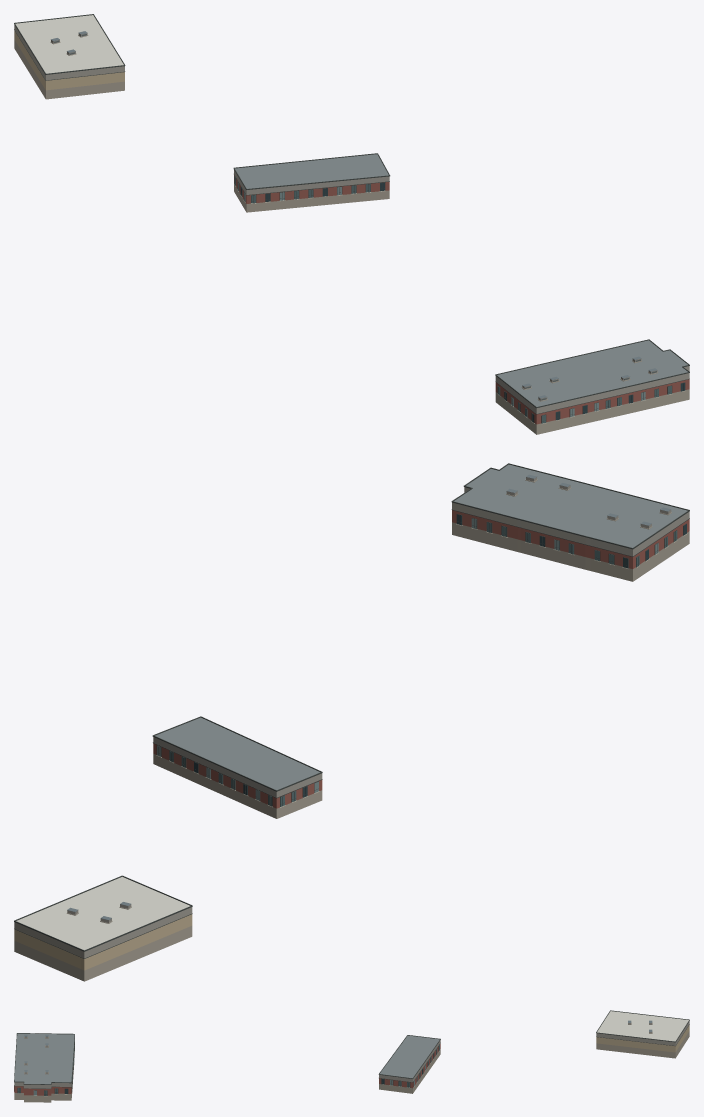
Rendered from lafayette-athletics-2_3.glb.
3 renders of one model, top to bottom at view 1: azimuth 30°, elevation 25°; view 2: azimuth 150°, elevation 25°; view 3: azimuth 270°, elevation 25°, orthographic. The views are drawn at different scales.
Visible parts, largest first — view 1: 634377429 | Roof, 634377437 | Roof, 634377429 | Facades, 634377437 | Shell and foundation, 634377437 | Facades, 634377429 | Shell and foundation; view 2: 634377429 | Roof, 634377437 | Roof, 634377429 | Facades, 634377437 | Shell and foundation, 634377429 | Shell and foundation, 634377437 | Facades; view 3: 634377429 | Roof, 634377437 | Roof, 634377429 | Facades, 634377429 | Shell and foundation, 634377437 | Shell and foundation, 634377437 | Facades.
Boxes of the visible parts, box(x1,y1,x2,y2) form: 634377429 | Roof: box(14, 15, 689, 434); 634377437 | Roof: box(235, 154, 687, 406); 634377429 | Facades: box(14, 14, 689, 423); 634377437 | Shell and foundation: box(234, 175, 689, 424); 634377437 | Facades: box(234, 176, 685, 424); 634377429 | Shell and foundation: box(14, 30, 124, 90); 634377429 | Roof: box(14, 474, 689, 981); 634377437 | Roof: box(155, 464, 687, 790); 634377429 | Facades: box(14, 463, 689, 958); 634377437 | Shell and foundation: box(153, 510, 689, 808); 634377429 | Shell and foundation: box(14, 914, 192, 970); 634377437 | Facades: box(156, 514, 687, 807); 634377429 | Roof: box(14, 1011, 689, 1102); 634377437 | Roof: box(14, 1033, 439, 1084); 634377429 | Facades: box(14, 1010, 689, 1095); 634377429 | Shell and foundation: box(596, 1025, 689, 1052); 634377437 | Shell and foundation: box(14, 1044, 440, 1095); 634377437 | Facades: box(17, 1045, 439, 1096).
Size of the model in its own units: 58.35 by 12.24 by 258.
